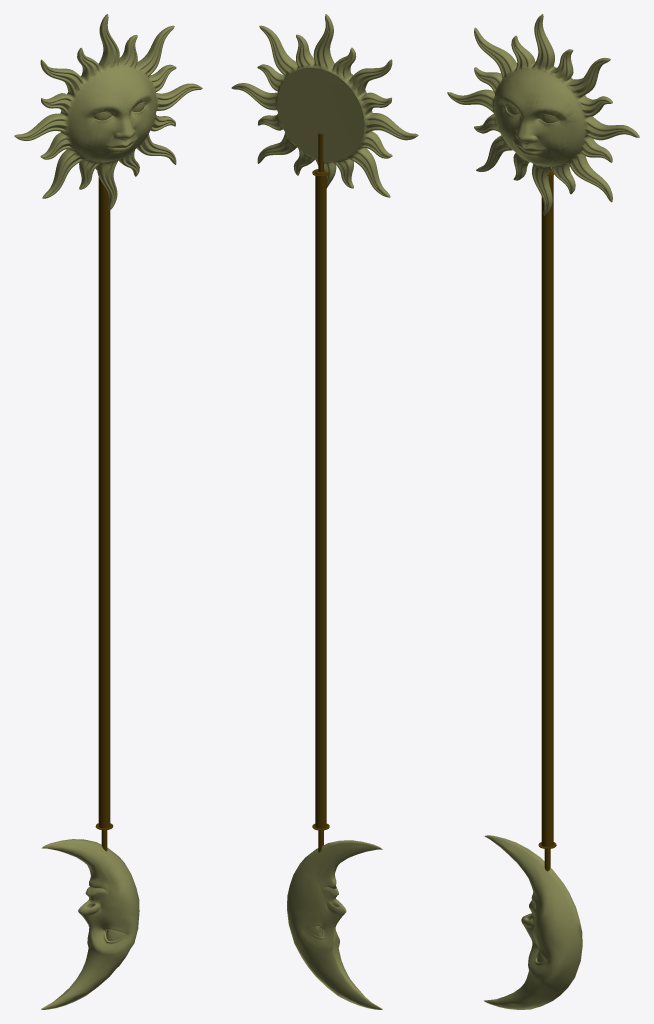
Rendered from bigHand.obj.
3 renders of one model, left to right at view 1: azimuth 30°, elevation 25°; view 2: azimuth 150°, elevation 25°; view 3: azimuth 330°, elevation 25°, orthographic. The views are drawn at different scales.
Parts seen in each view (by area): view 1: models/bigHand; view 2: models/bigHand; view 3: models/bigHand.
Boxes of the visible parts, left/top/right/bottom form: models/bigHand: left=14, top=14, right=202, bottom=1009; models/bigHand: left=231, top=14, right=418, bottom=1009; models/bigHand: left=447, top=14, right=639, bottom=1009.
Size of the model in its own units: 1.77 by 8.85 by 0.4955.
